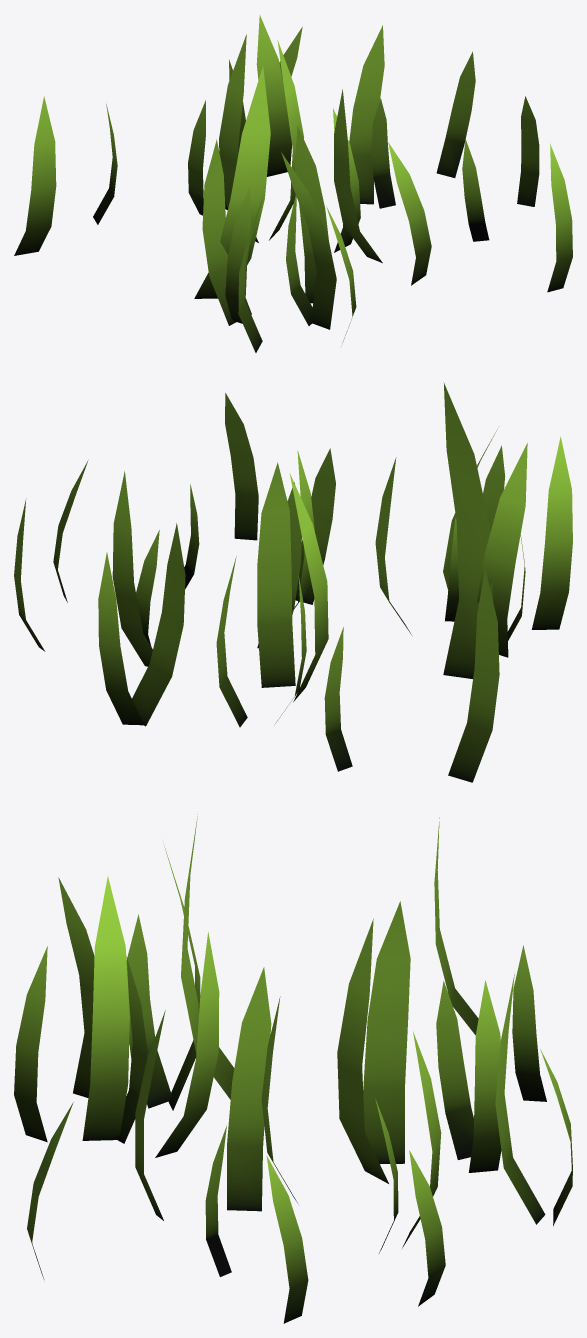
The model's file is InstancingGrass.fbx.
3 views of the same model, one above another, from view 1: azimuth 30°, elevation 25°; view 2: azimuth 150°, elevation 25°; view 3: azimuth 270°, elevation 25° (orthographic). The views are drawn at different scales.
Parts seen in each view (by area): view 1: Cube; view 2: Cube; view 3: Cube.
Part boxes in pixels (left/top/right/bottom): Cube: left=14, top=15, right=572, bottom=352; Cube: left=14, top=382, right=572, bottom=782; Cube: left=14, top=814, right=572, bottom=1323.
Bounding box in the file's own units: 188 × 96.32 × 153.
